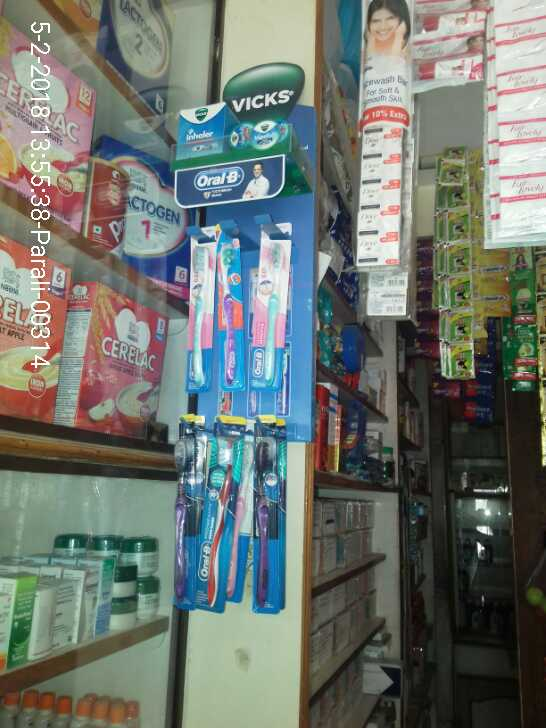oralb: (246, 423, 295, 606), (195, 435, 234, 619), (253, 239, 293, 389), (179, 239, 217, 387), (169, 427, 190, 603), (217, 232, 241, 384)
